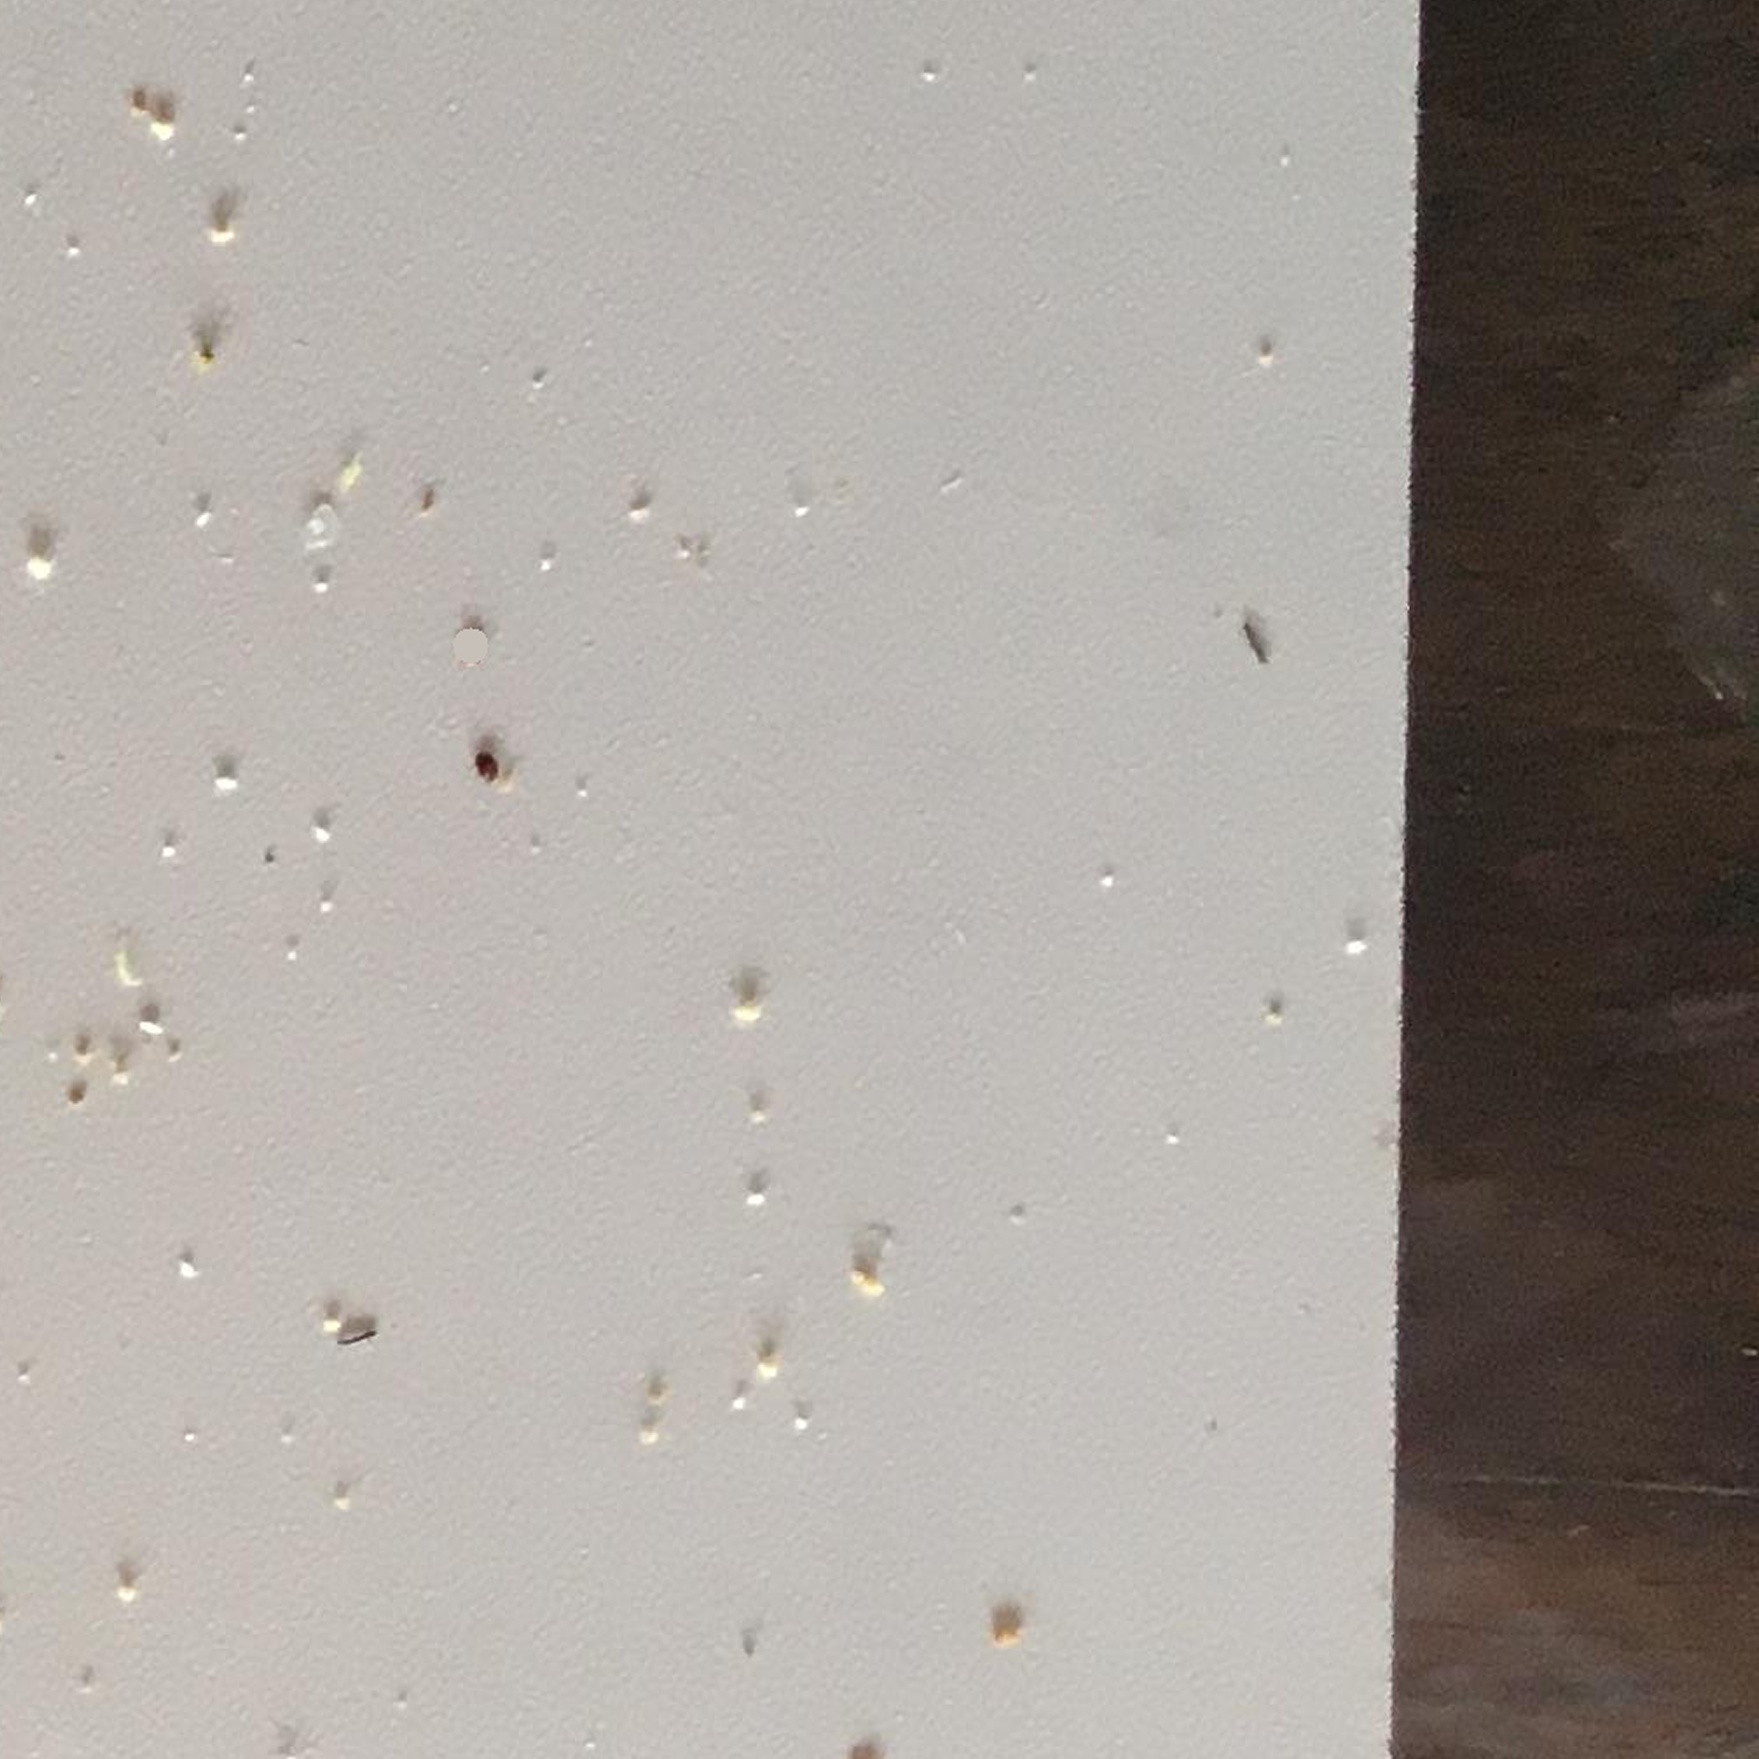Varroa: (469, 746, 506, 788)
